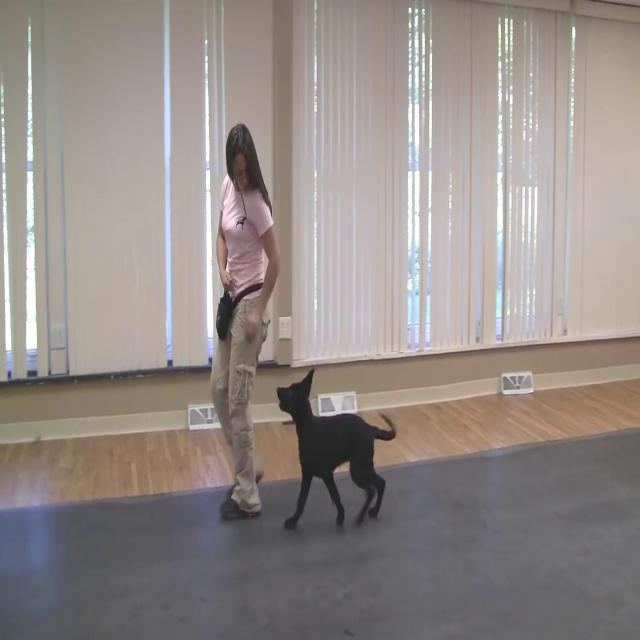Unleashed_Dog: (228, 368, 398, 529)
